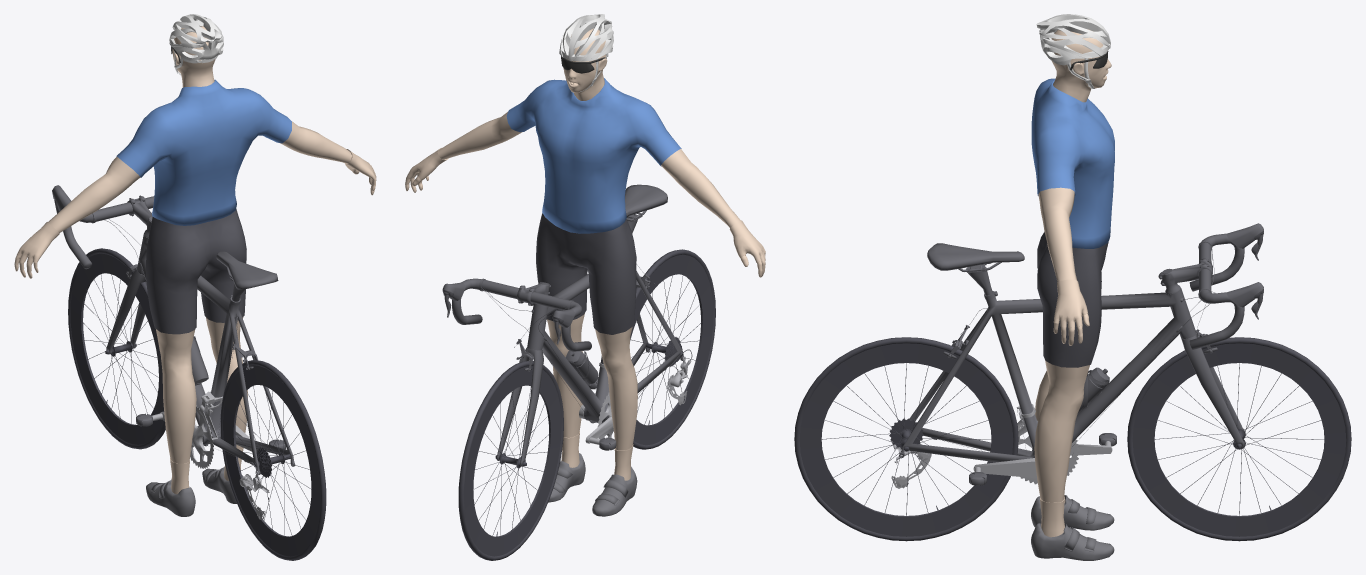
File: cyclist.glb
3 renders of one model, left to right at view 1: azimuth 30°, elevation 25°; view 2: azimuth 150°, elevation 25°; view 3: azimuth 270°, elevation 25°, orthographic. The views are drawn at different scales.
Parts seen in each view (by area): view 1: Bike_Wheels, T-Shirt, Skin, Bike_Dark, Shorts, Helmet, Bike_Gears, Shoes; view 2: T-Shirt, Bike_Wheels, Skin, Bike_Dark, Shorts, Shoes, Helmet, Bike_Gears; view 3: Bike_Wheels, Bike_Dark, Skin, T-Shirt, Shorts, Shoes, Helmet, Bike_Gears.
Boxes of the visible parts, left/top/right/bottom form: Bike_Wheels: left=68, top=248, right=326, bottom=560; T-Shirt: left=116, top=79, right=291, bottom=225; Skin: left=14, top=26, right=376, bottom=494; Bike_Dark: left=52, top=185, right=295, bottom=499; Shorts: left=146, top=209, right=246, bottom=334; Helmet: left=169, top=14, right=223, bottom=74; Bike_Gears: left=152, top=391, right=269, bottom=519; Shoes: left=146, top=467, right=247, bottom=516; T-Shirt: left=506, top=78, right=681, bottom=233; Bike_Wheels: left=458, top=249, right=715, bottom=560; Skin: left=405, top=28, right=765, bottom=480; Bike_Dark: left=442, top=184, right=692, bottom=466; Shorts: left=536, top=213, right=636, bottom=334; Shoes: left=548, top=453, right=637, bottom=516; Helmet: left=559, top=14, right=613, bottom=92; Bike_Gears: left=579, top=356, right=691, bottom=444; Bike_Wheels: left=794, top=337, right=1351, bottom=541; Bike_Dark: left=895, top=223, right=1263, bottom=485; Skin: left=1034, top=29, right=1111, bottom=537; T-Shirt: left=1031, top=78, right=1114, bottom=248; Shorts: left=1037, top=232, right=1108, bottom=367; Shoes: left=1031, top=495, right=1114, bottom=560; Helmet: left=1036, top=14, right=1110, bottom=88; Bike_Gears: left=891, top=404, right=1112, bottom=488.
Bounding box in the file's own units: 1.53 × 1.96 × 1.89.
